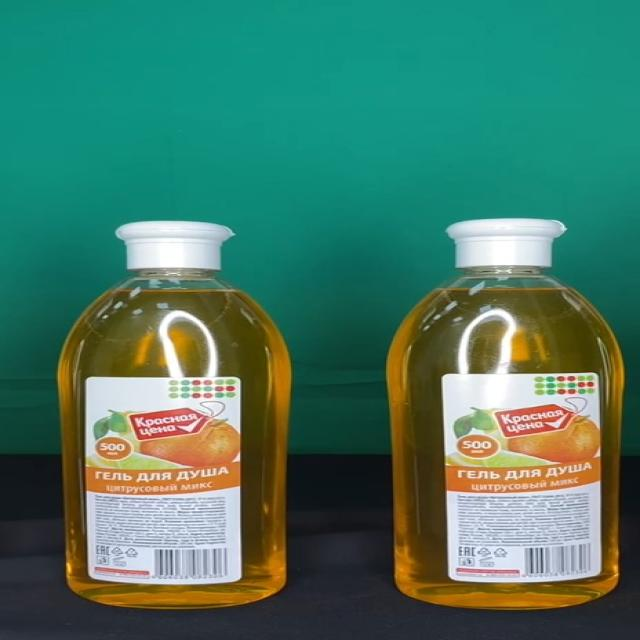Bottle: (386, 219, 626, 610), (56, 222, 293, 610)
Cap: (445, 219, 567, 268), (115, 222, 235, 270)
